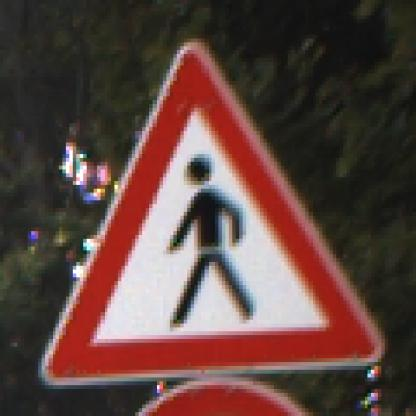crosswalk: (52, 49, 382, 412)
